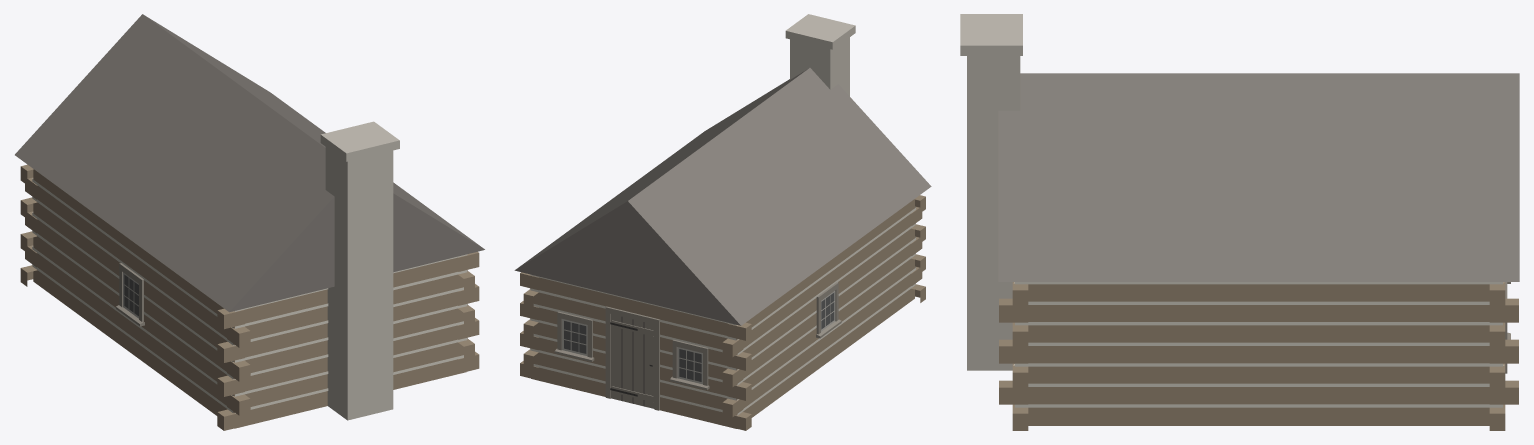
Rendered from recon_1835_west_049__inferred_1835.glb.
The picture shows the model from 3 angles, left to right: view 1: azimuth 30°, elevation 25°; view 2: azimuth 150°, elevation 25°; view 3: azimuth 270°, elevation 25°; orthographic projection. The views are drawn at different scales.
Parts seen in each view (by area): view 1: recon_1835_west_049__inferred_1835; view 2: recon_1835_west_049__inferred_1835; view 3: recon_1835_west_049__inferred_1835.
Boxes of the visible parts, x1,y1,x2,y2 form: recon_1835_west_049__inferred_1835: (15,14,484,430); recon_1835_west_049__inferred_1835: (514,14,931,430); recon_1835_west_049__inferred_1835: (960,14,1519,430).
Size of the model in its own units: 5.38 by 5.42 by 8.39.
